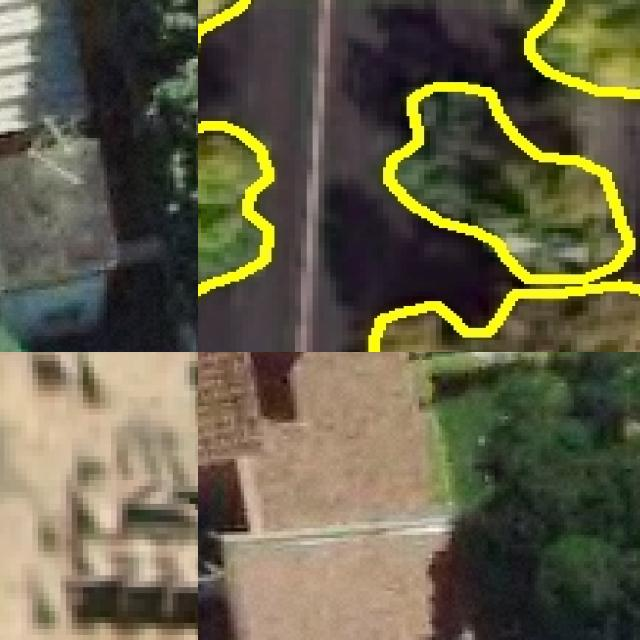trees: (372, 85, 640, 353), (466, 353, 640, 640), (199, 124, 270, 293), (528, 1, 640, 95)
